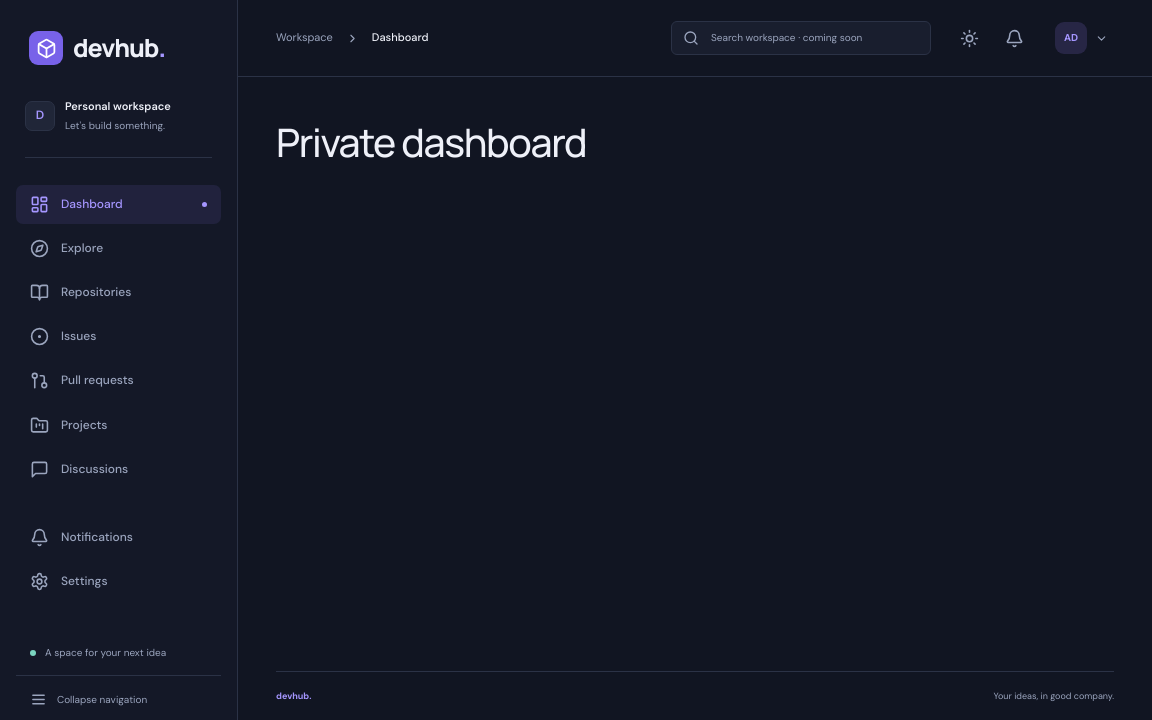
Scenario: authentication UI › restores session and provides functional main navigation
The image size is (1152, 720).
Expected: the heading "Private dashboard" is shown, x1=276 y1=115 x2=586 y2=169
Step 1. Click the link "Projects" → (69, 425), box x1=30 y1=416 x2=108 y2=435
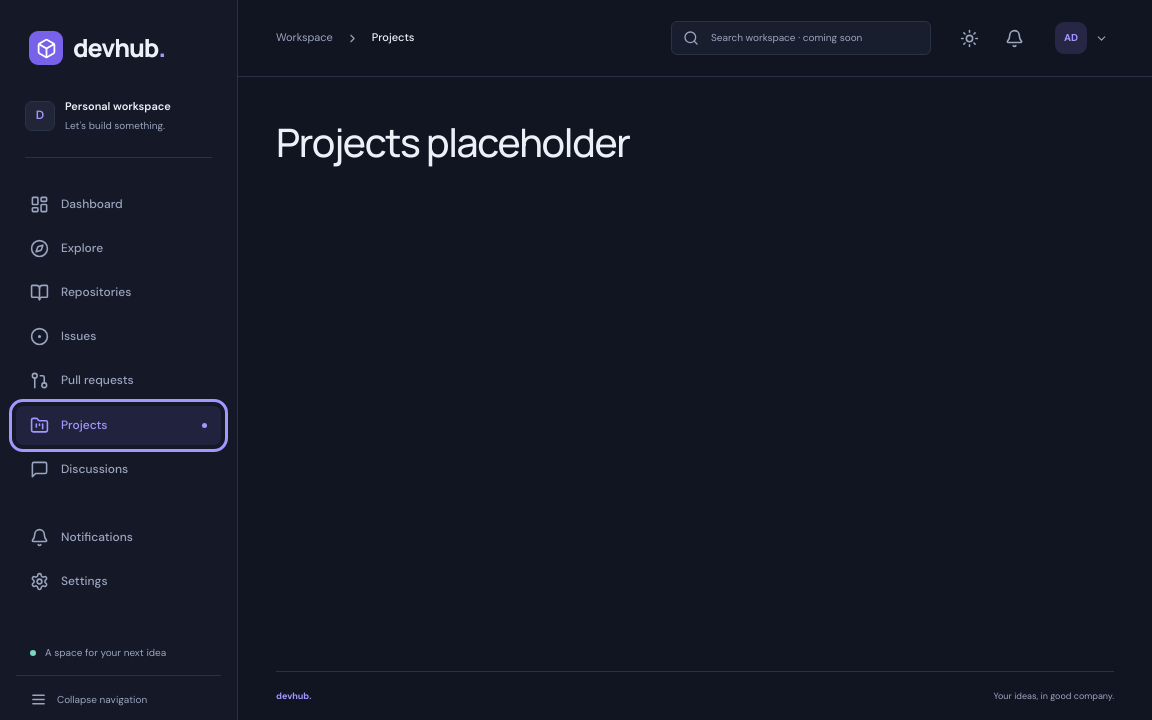
Result: the heading "Projects placeholder" is shown at x1=276 y1=115 x2=630 y2=169
